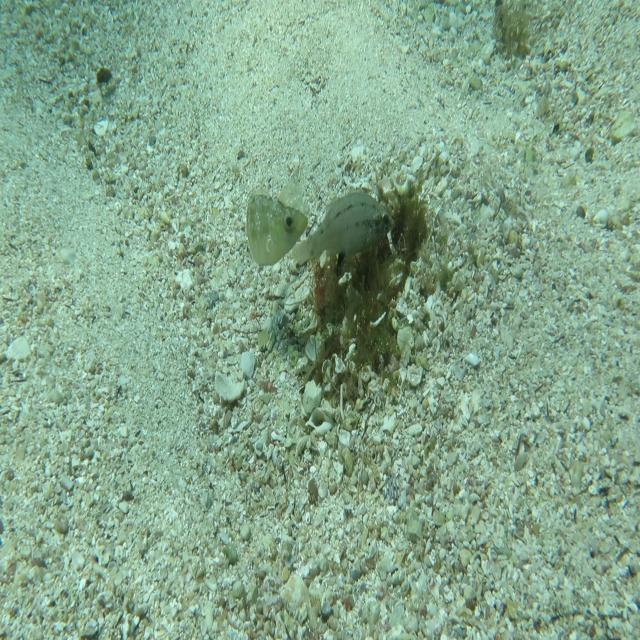GB: (245, 177, 309, 269)
core_nest: (374, 212, 411, 248)
female: (291, 188, 395, 269)
nest: (306, 171, 436, 398)
